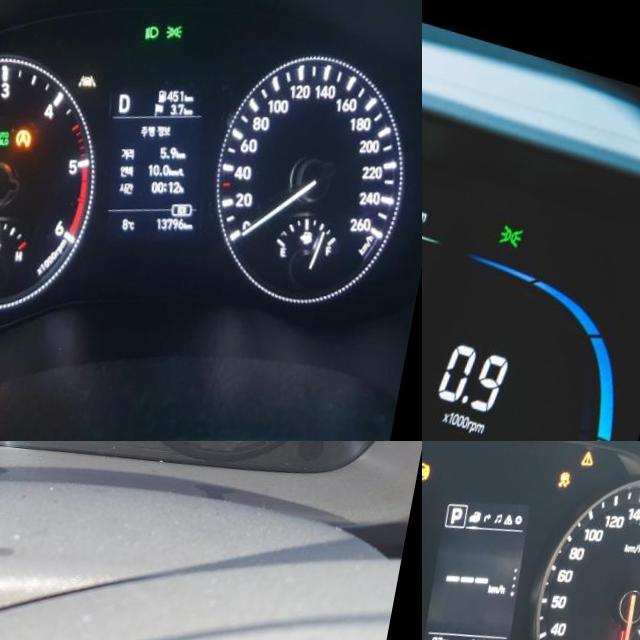Central Warning lamp: (588, 441, 603, 455)
Low beam: (149, 14, 169, 34)
SideLamp: (503, 211, 532, 238), (170, 14, 191, 33)
